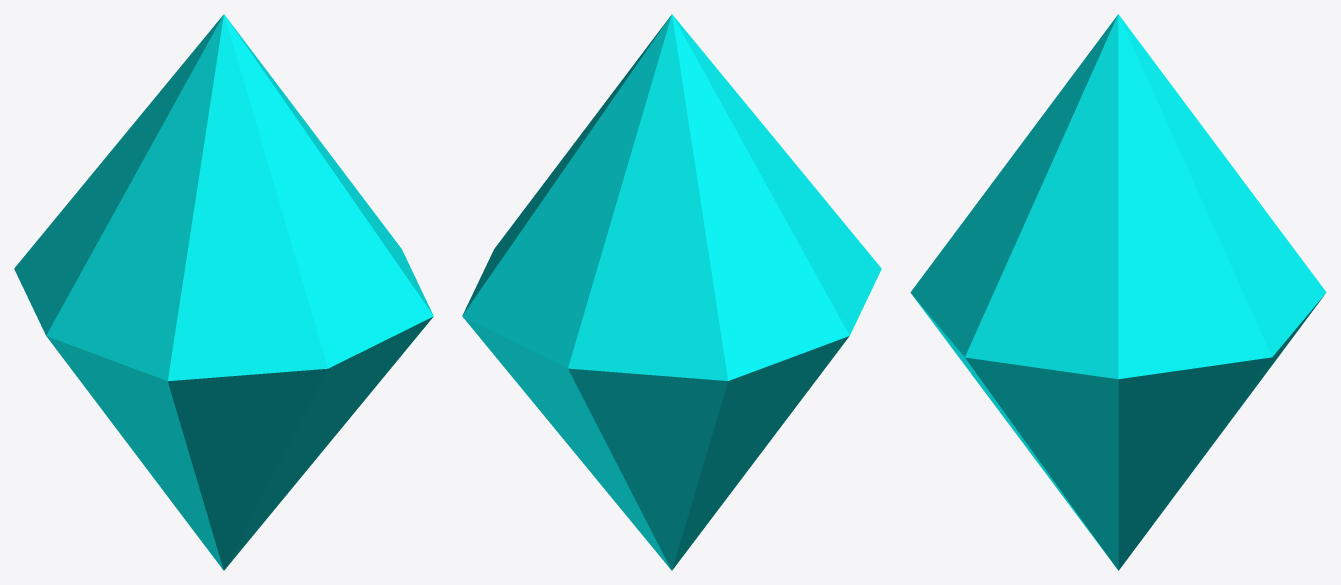
File: Crystal.fbx
The picture shows the model from 3 angles, left to right: view 1: azimuth 30°, elevation 25°; view 2: azimuth 150°, elevation 25°; view 3: azimuth 270°, elevation 25°; orthographic projection.
Visible parts, largest first — view 1: Diamondo__1_; view 2: Diamondo__1_; view 3: Diamondo__1_.
Part boxes in pixels (left/top/right/bottom): Diamondo__1_: left=14, top=14, right=433, bottom=570; Diamondo__1_: left=462, top=14, right=881, bottom=570; Diamondo__1_: left=910, top=14, right=1326, bottom=570.
Bounding box in the file's own units: 214 × 320 × 217.
